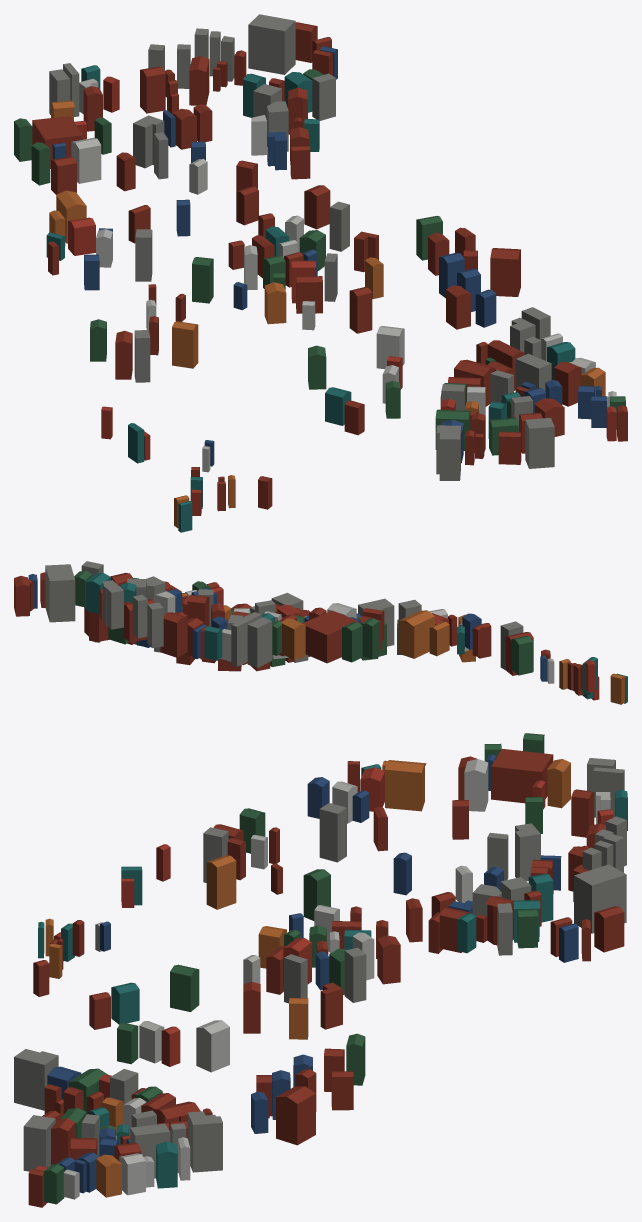
The model's file is near-17-109444-59482.b30150be.glb.
The picture shows the model from 3 angles, top to bottom: view 1: azimuth 30°, elevation 25°; view 2: azimuth 150°, elevation 25°; view 3: azimuth 270°, elevation 25°; orthographic projection. The views are drawn at different scales.
Size of the model in its own units: 304 by 157 by 305.
